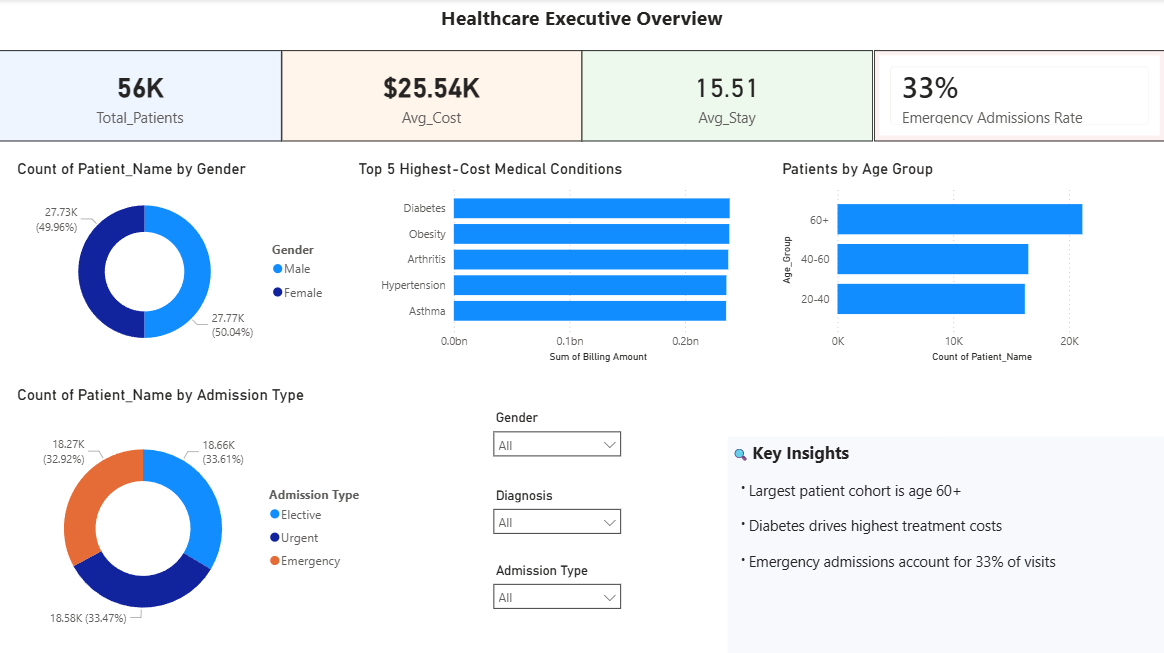

Layout of this report page (visuals, bound fields, positions):
{"tool":"powerbi","page":{"name":"Healthcare Executive Dashboard","canvas":[1280,720],"ordinal":0},"visuals":[{"type":"card","fields":{"Values":["healthcare_dataset.Total_Patients"]},"box":[0,55.7,310,100],"z":1000},{"type":"card","fields":{"Values":["healthcare_dataset.Avg_Cost"]},"box":[310,55.7,330,100],"z":2000},{"type":"card","fields":{"Values":["healthcare_dataset.Avg_Stay"]},"box":[640,55.7,320,100],"z":3000},{"type":"donutChart","fields":{"Category":["healthcare_dataset.Gender"],"Y":["CountNonNull(healthcare_dataset.Patient_Name)"]},"box":[15.7,175.7,355.7,228.6],"z":4000},{"type":"clusteredBarChart","title":"Top 5 Highest-Cost Medical Conditions","fields":{"Category":["healthcare_dataset.Diagnosis"],"Y":["Sum(healthcare_dataset.Billing Amount)"]},"box":[389.3,175.7,447.1,228.6],"z":5000},{"type":"clusteredBarChart","title":"Patients by Age Group","fields":{"Category":["healthcare_dataset.Age_Group"],"Y":["CountNonNull(healthcare_dataset.Patient_Name)"]},"box":[854.3,175.7,398.6,228.6],"z":6000},{"type":"donutChart","fields":{"Category":["healthcare_dataset.Admission Type"],"Y":["CountNonNull(healthcare_dataset.Patient_Name)"]},"box":[15.7,424.3,401.4,295.7],"z":7000},{"type":"slicer","fields":{"Values":["healthcare_dataset.Gender"]},"box":[532.4,446,160.5,68.6],"z":8000},{"type":"slicer","fields":{"Values":["healthcare_dataset.Diagnosis"]},"box":[532.4,531,160.5,68.6],"z":9000},{"type":"slicer","fields":{"Values":["healthcare_dataset.Admission Type"]},"box":[532.4,613.4,160.5,68.6],"z":10000},{"type":"cardVisual","fields":{"Data":["healthcare_dataset.Emergency_Admission_Pct"]},"box":[960,55.7,320,100],"z":11000},{"type":"textbox","box":[800,480,480,240],"z":12000},{"type":"textbox","box":[480,0,320,46.2],"z":13000}]}

Visuals, with their boxes in screenshot pixels (x1, y1, x2, y2), scaled from the page's 1280x720 canvas onto the 1164x653 screenshot:
card - healthcare_dataset.Total_Patients: box=[0, 51, 282, 141]
card - healthcare_dataset.Avg_Cost: box=[282, 51, 582, 141]
card - healthcare_dataset.Avg_Stay: box=[582, 51, 873, 141]
donutChart - healthcare_dataset.Gender x CountNonNull(healthcare_dataset.Patient_Name): box=[14, 159, 338, 367]
"Top 5 Highest-Cost Medical Conditions" clusteredBarChart: box=[354, 159, 761, 367]
"Patients by Age Group" clusteredBarChart: box=[777, 159, 1139, 367]
donutChart - healthcare_dataset.Admission Type x CountNonNull(healthcare_dataset.Patient_Name): box=[14, 385, 379, 652]
slicer - healthcare_dataset.Gender: box=[484, 404, 630, 467]
slicer - healthcare_dataset.Diagnosis: box=[484, 482, 630, 544]
slicer - healthcare_dataset.Admission Type: box=[484, 556, 630, 619]
cardVisual - healthcare_dataset.Emergency_Admission_Pct: box=[873, 51, 1163, 141]
textbox: box=[728, 435, 1163, 652]
textbox: box=[436, 0, 728, 42]
